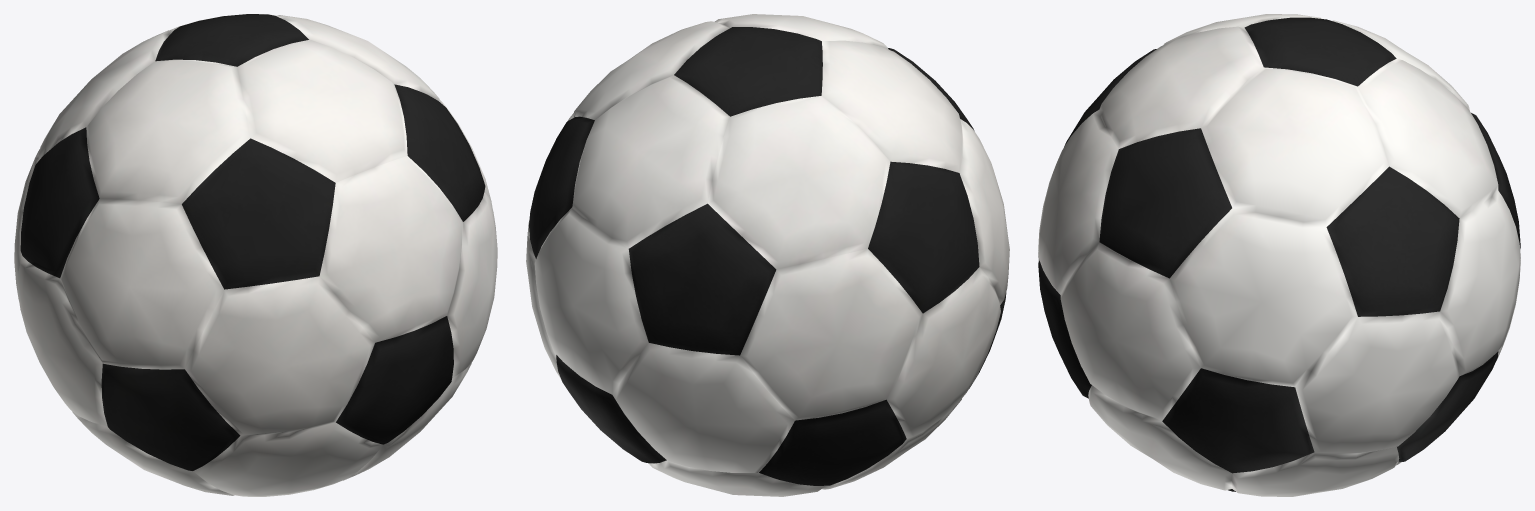
Rendered from ball.glb.
3 views of the same model, side by side, from view 1: azimuth 30°, elevation 25°; view 2: azimuth 150°, elevation 25°; view 3: azimuth 270°, elevation 25° (orthographic).
Visible parts, largest first — view 1: balon; view 2: balon; view 3: balon.
Part boxes in pixels (box(x1,y1,x2,y2)): balon: box(14, 14, 497, 496); balon: box(526, 14, 1009, 496); balon: box(1038, 14, 1520, 496).
Size of what is drawn, in the model's own units: 0.3817 by 0.3817 by 0.3809.
1 material, 1 textured.
